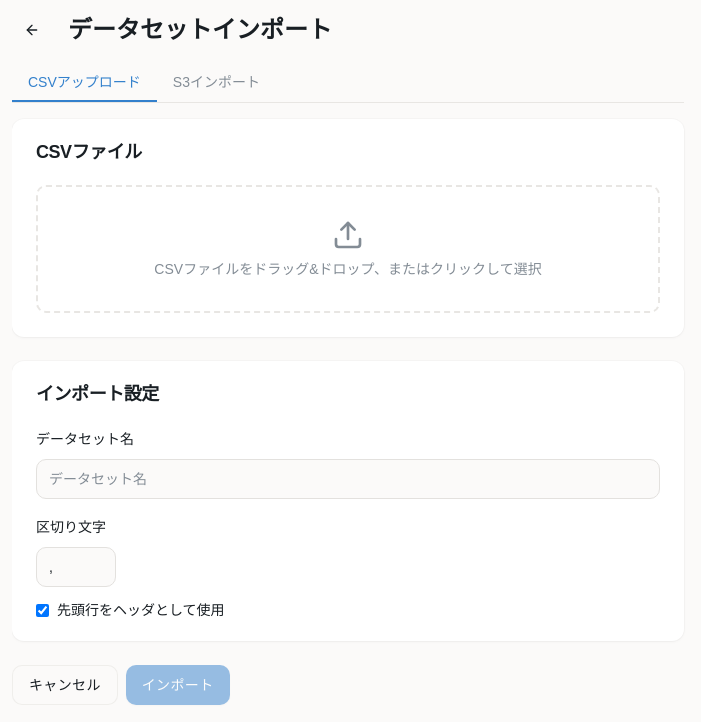
Test case: DatasetImportPage › switches back to CSV tab from S3 tab
# Switch to S3
Step 1. Click the button "S3インポート" → (216, 83), box x1=157 y1=64 x2=276 y2=102
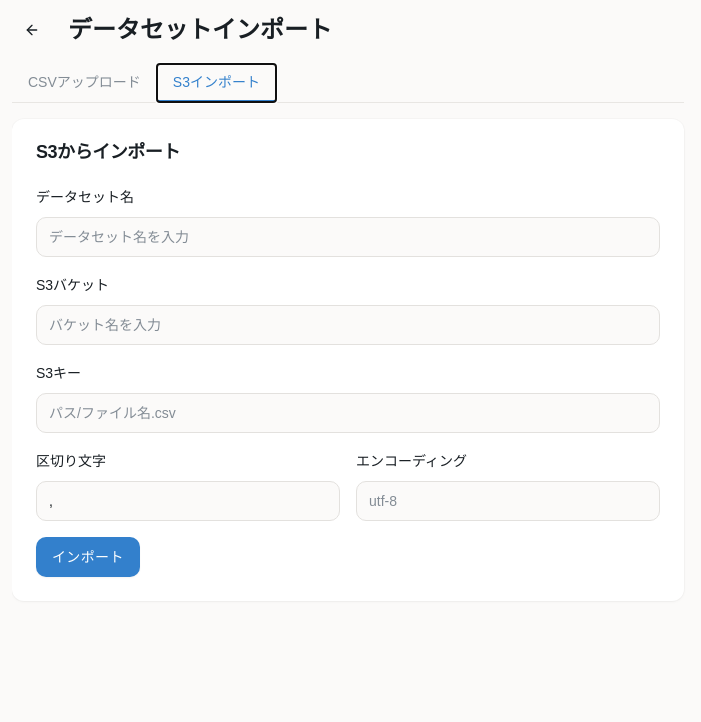
# Switch back to CSV
Step 2. Click the button "CSVアップロード" → (84, 83), box x1=12 y1=64 x2=157 y2=102
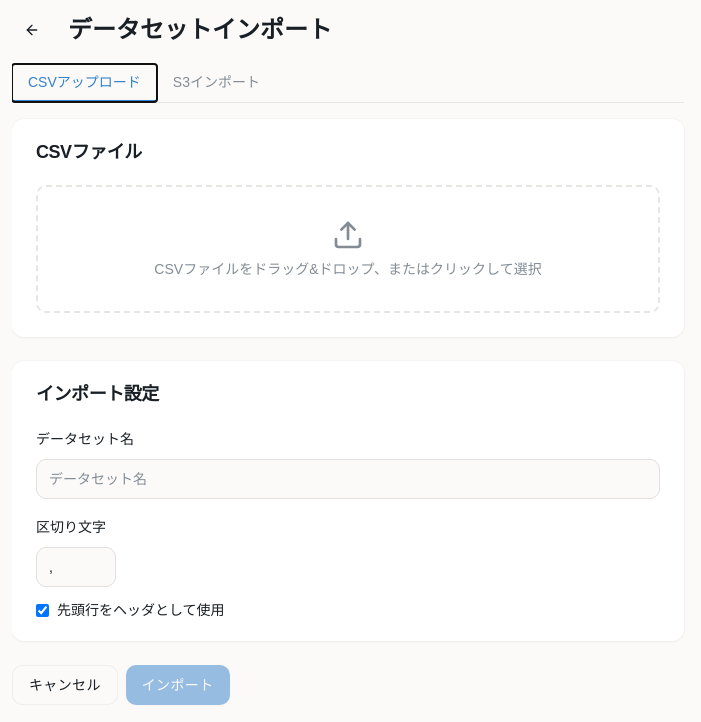
expect the text "CSVファイル" is shown: met, box x1=36 y1=142 x2=142 y2=162
expect the text "CSVファイルをドラッグ&ドロップ、またはクリックして選択" is shown: met, box x1=154 y1=261 x2=542 y2=277
